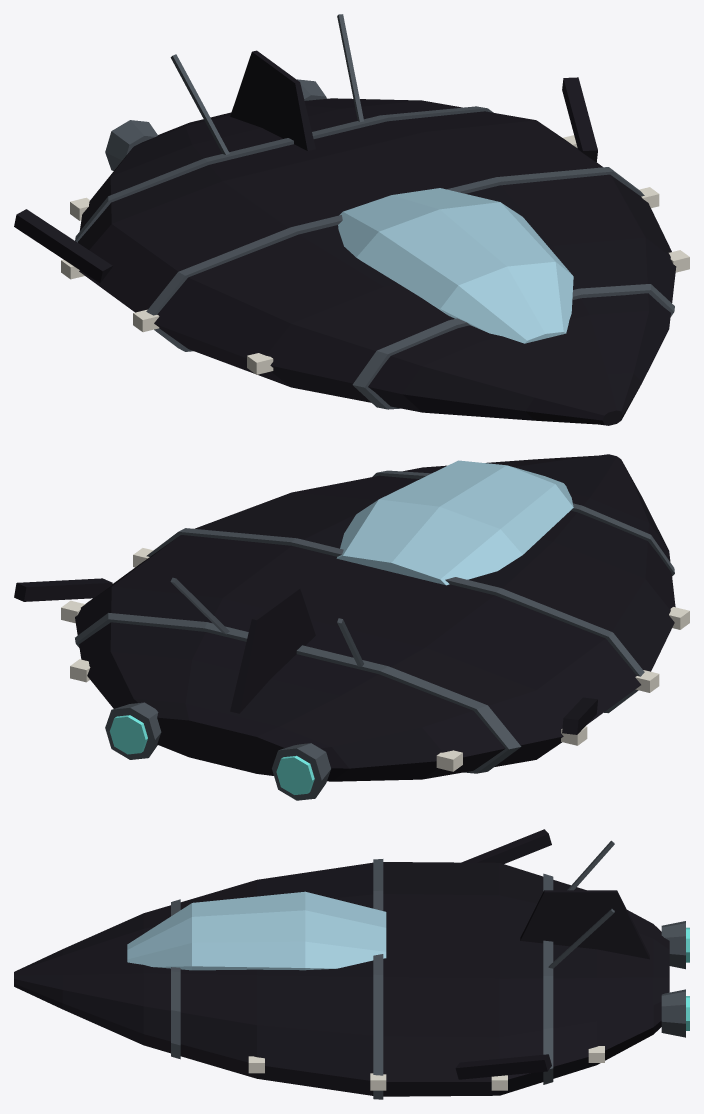
Rendered from SH_MIBCraft_01.glb.
3 renders of one model, top to bottom at view 1: azimuth 30°, elevation 25°; view 2: azimuth 150°, elevation 25°; view 3: azimuth 270°, elevation 25°, orthographic. The views are drawn at different scales.
Visible parts, largest first — view 1: SH_MIBCraft_01; view 2: SH_MIBCraft_01; view 3: SH_MIBCraft_01.
Part boxes in pixels (left/top/right/bottom): SH_MIBCraft_01: left=14, top=14, right=689, bottom=425; SH_MIBCraft_01: left=14, top=454, right=689, bottom=800; SH_MIBCraft_01: left=14, top=829, right=689, bottom=1099.
Size of the model in its own units: 6.76 by 2.12 by 8.35.
1 material, 1 textured.
